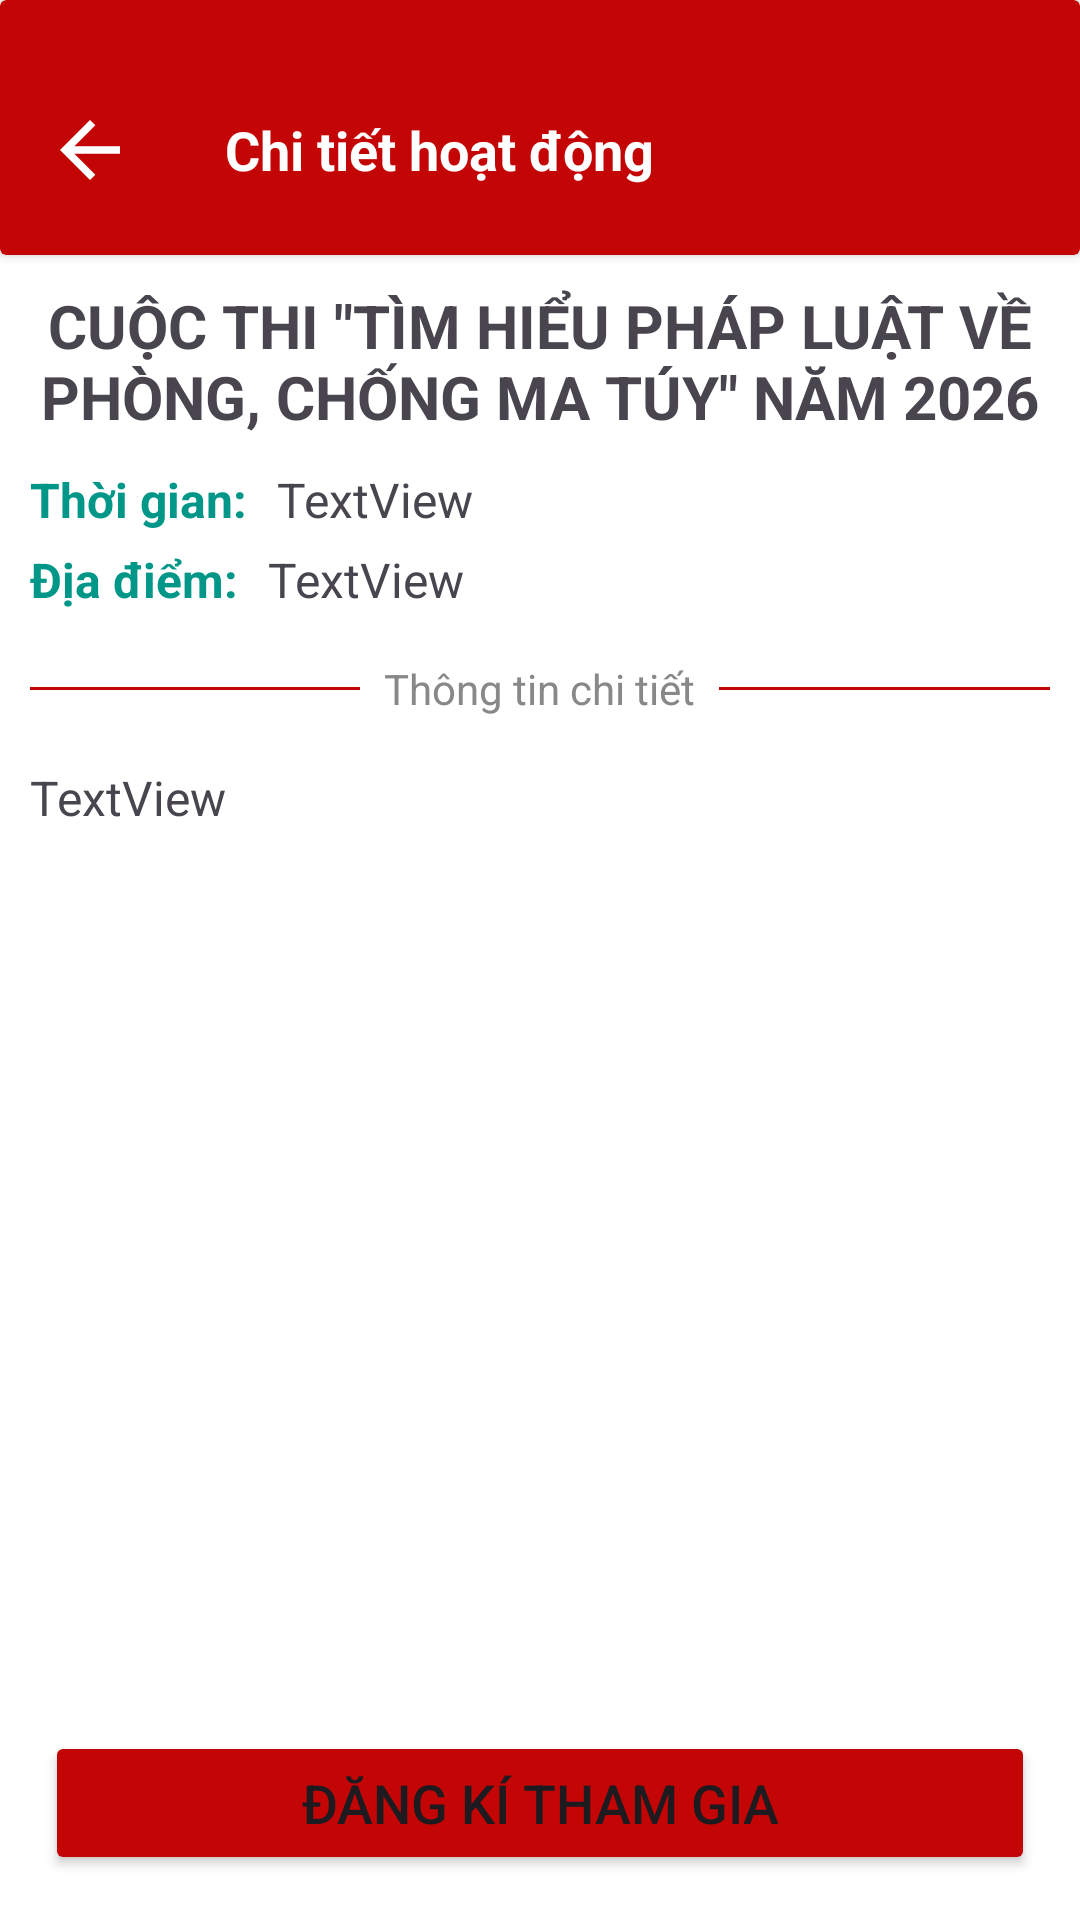

Icon bounding boxes for this 1080px×1920px phone screenshot, format (x1, y1, x2, y2):
arrow back: (60, 120, 120, 180)
